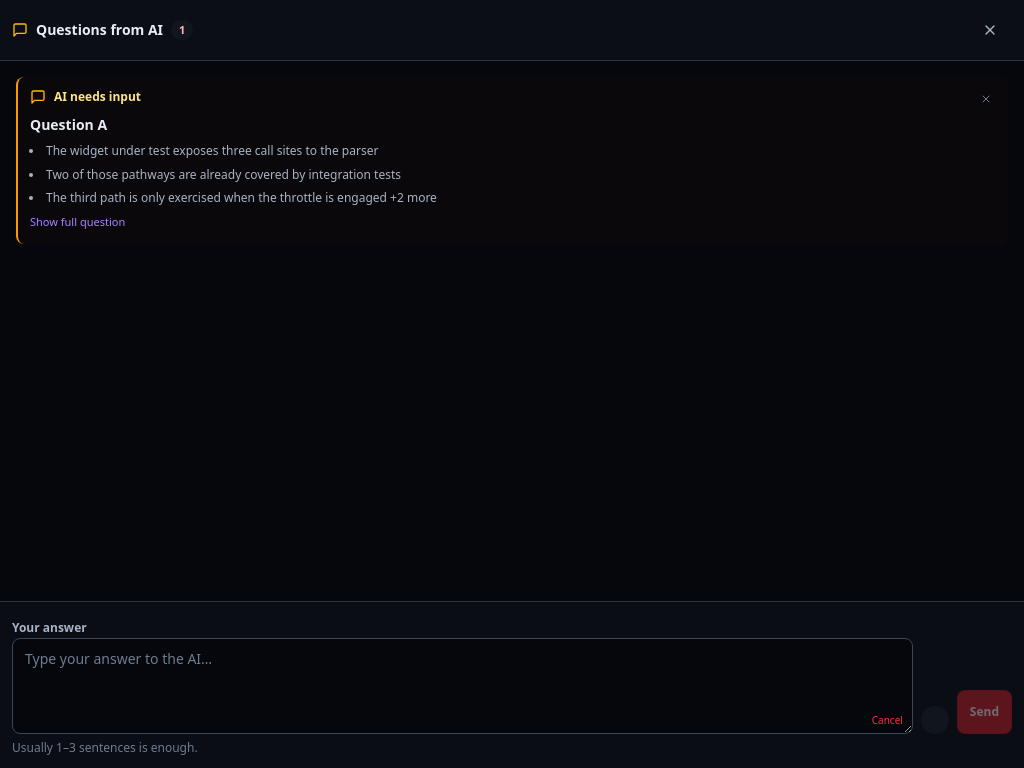
QuestionPanel › open: long detail renders 3 bullets with +N more and toggles full text
Check: the number of list items is 3, box [46, 142, 378, 159]; [46, 166, 401, 182]; [46, 189, 437, 206]
Check: the 3rd list item shows "+2 more", box [387, 189, 437, 206]
Click the button "Show full question".
click(78, 222)  # box [30, 214, 125, 230]
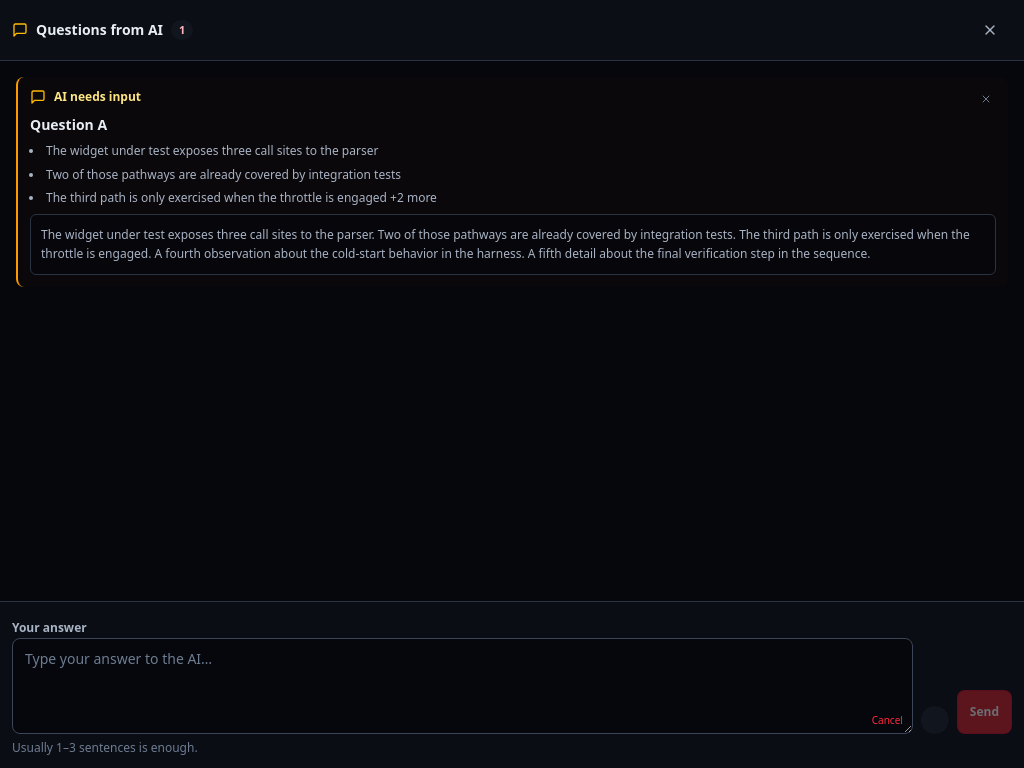
Check: the button "Show full question" is gone
